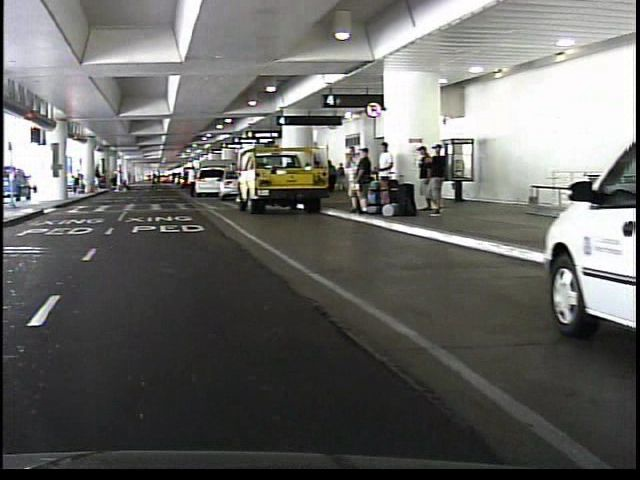person: (338, 143, 357, 213), (425, 144, 443, 217), (106, 162, 121, 196), (182, 165, 192, 197)
